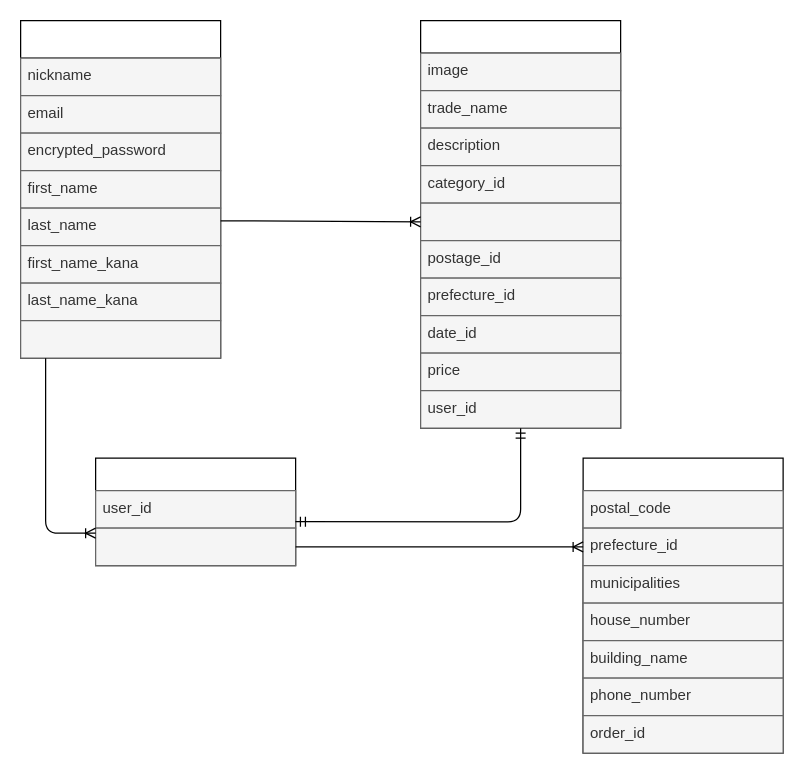
This 804x774 diagram has some shape labels left out. Here are the shapes that lost their labels. From the top down, the box of each, then its label:
(19, 19, 221, 358): users
(419, 202, 621, 241): condition_id
(419, 19, 621, 428): items
(19, 319, 221, 358): birth_date
(94, 457, 296, 566): orders
(94, 527, 296, 566): item_id
(582, 457, 783, 753): addresses
